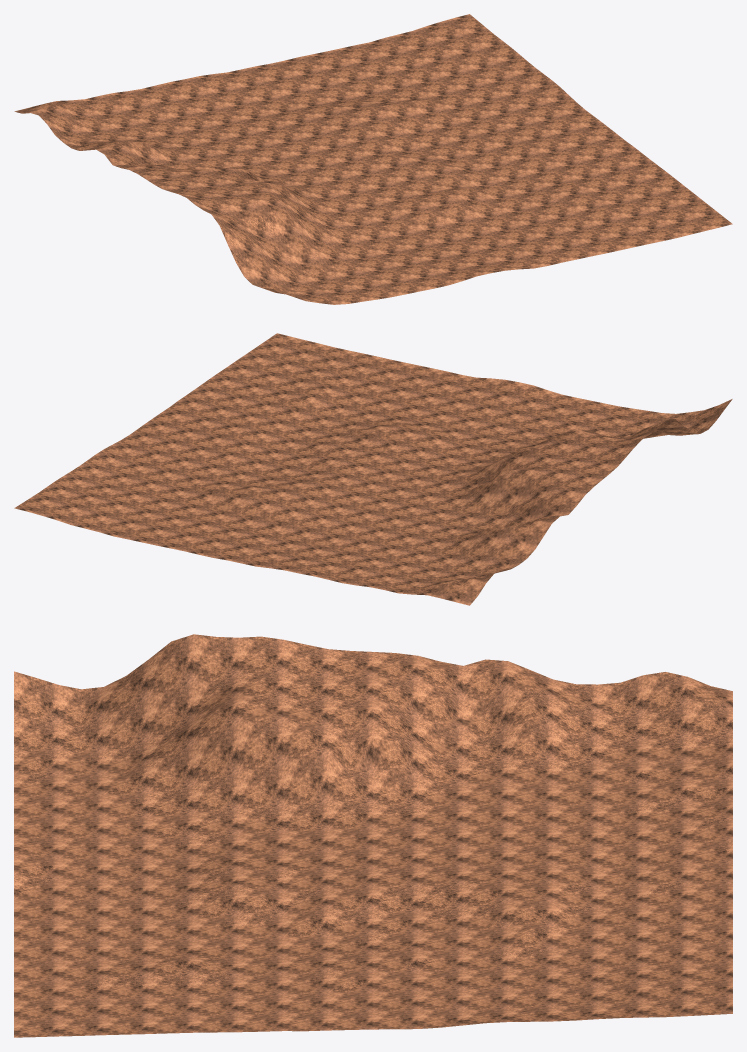
Rendered from terrain_07_14.dae.
The picture shows the model from 3 angles, top to bottom: view 1: azimuth 30°, elevation 25°; view 2: azimuth 150°, elevation 25°; view 3: azimuth 270°, elevation 25°; orthographic projection. The views are drawn at different scales.
Parts seen in each view (by area): view 1: terrain_07_14-node; view 2: terrain_07_14-node; view 3: terrain_07_14-node.
Boxes of the visible parts, x1,y1,x2,y2 form: terrain_07_14-node: (14,14,732,304); terrain_07_14-node: (14,333,732,605); terrain_07_14-node: (14,634,732,1037).
Bounding box in the file's own units: 128 × 128 × 19.62.
Materials: 1 (1 with a texture image).
